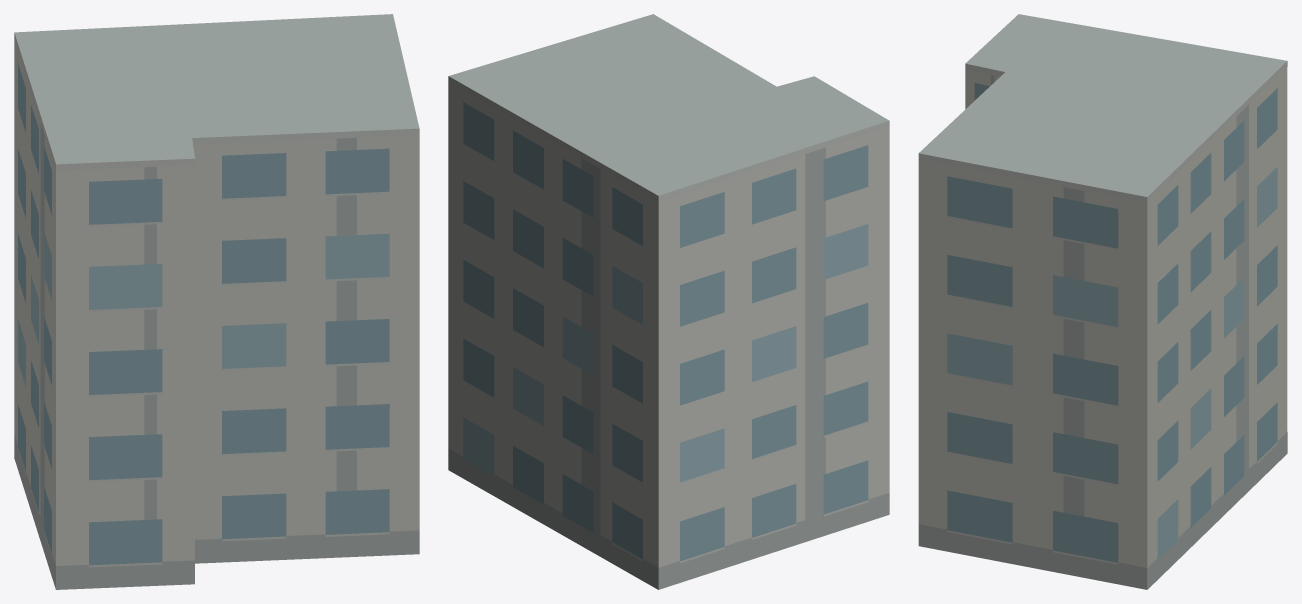
The model's file is survey-upis-32530318.glb.
3 views of the same model, side by side, from view 1: azimuth 30°, elevation 25°; view 2: azimuth 150°, elevation 25°; view 3: azimuth 270°, elevation 25° (orthographic). The views are drawn at different scales.
Visible parts, largest first — view 1: survey-upis-32530318.tmp; view 2: survey-upis-32530318.tmp; view 3: survey-upis-32530318.tmp.
Part boxes in pixels (x1=…): survey-upis-32530318.tmp: x1=14, y1=14, x2=419, y2=589; survey-upis-32530318.tmp: x1=448, y1=14, x2=889, y2=589; survey-upis-32530318.tmp: x1=918, y1=14, x2=1287, y2=589.
Size of the model in its own units: 15.81 by 15.8 by 13.46.
